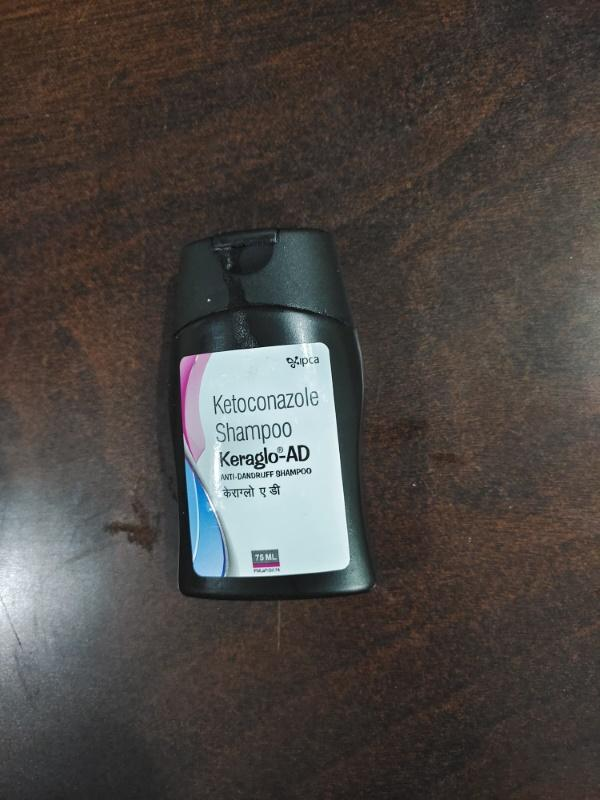KeraGlo: (161, 225, 389, 631)
